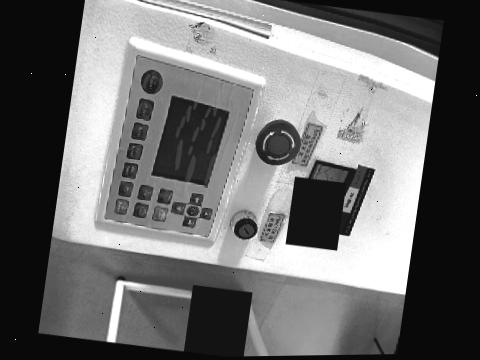Amp_Meter: (308, 160, 355, 188)
Display: (150, 95, 228, 187)
Down_button: (169, 201, 184, 214)
Emergency_Stop: (254, 119, 300, 165)
Enter_button: (151, 206, 167, 221)
Esc_button: (156, 188, 172, 204)
File_button: (117, 180, 132, 197)
Frame_button: (131, 202, 147, 217)
Left_button: (188, 192, 202, 205)
Max-Power_button: (121, 162, 137, 178)
Min-Power_button: (125, 142, 142, 159)
Origin_button: (136, 184, 152, 200)
Power_switch: (229, 210, 256, 239)
Pulse_button: (135, 98, 152, 120)
Reset_button: (139, 69, 161, 94)
Right_button: (181, 216, 195, 227)
Speed_button: (130, 122, 147, 140)
Start-Pause_button: (113, 199, 128, 214)
Up_button: (198, 207, 211, 219)
Z_U_button: (185, 205, 198, 216)
